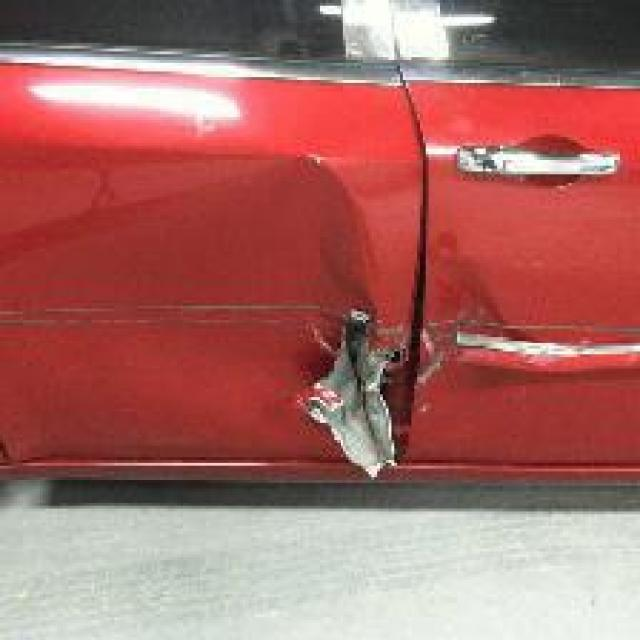damaged: (0, 137, 526, 492)
